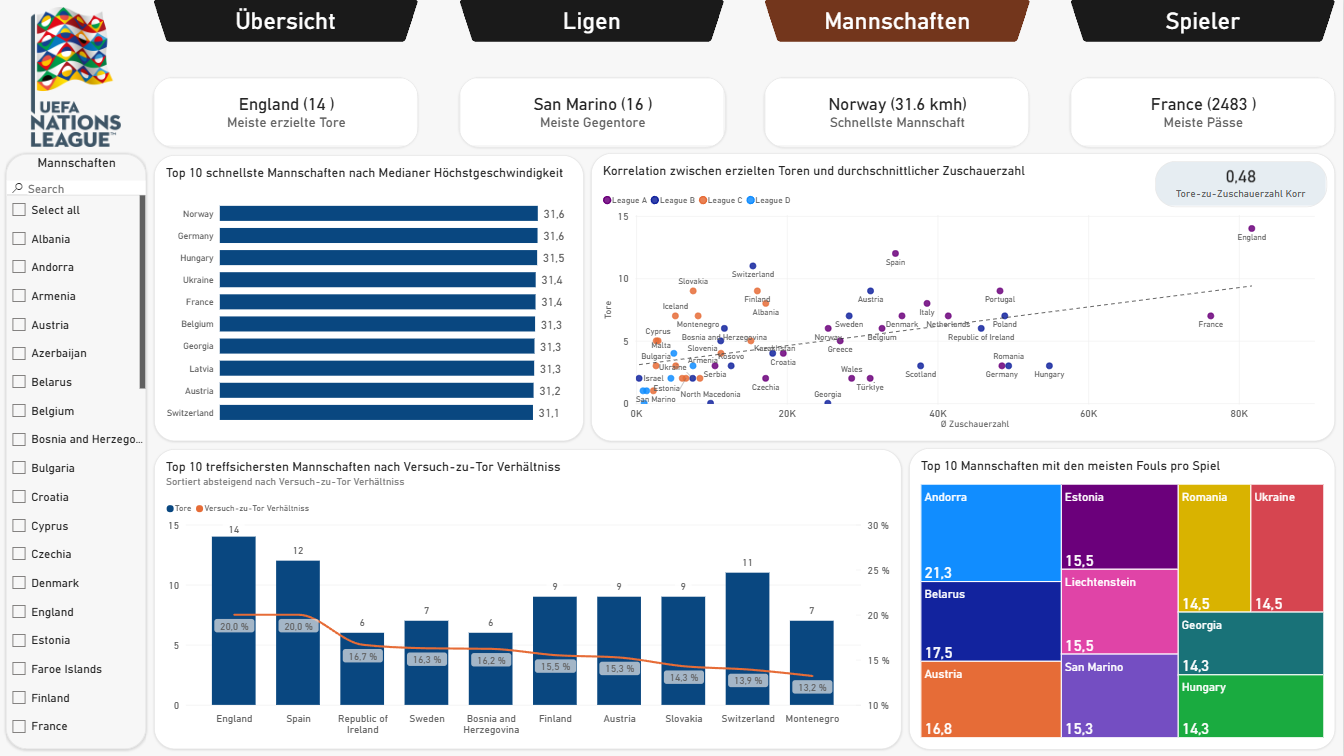

The dashboard page shown, as its layout file describes it:
{"tool":"powerbi","page":{"name":"Mannschaften","canvas":[1920,1080],"ordinal":2},"visuals":[{"type":"image","box":[10,10,200,200],"z":0},{"type":"cardVisual","fields":{"Data":["calculations.teams_most_goals"]},"box":[220.3,109.4,379.3,100.7],"z":1000},{"type":"cardVisual","fields":{"Data":["calculations.teams_most_goals_conceded"]},"box":[656.5,109.4,380.8,100.7],"z":2000},{"type":"cardVisual","fields":{"Data":["calculations.teams_most_passes"]},"box":[1530.5,109.4,379.3,100.7],"z":4000},{"type":"slicer","title":"Mannschaften","fields":{"Values":["dim_teams.team_name"]},"box":[10,220,200,850],"z":5000},{"type":"actionButton","box":[220,0,379.3,59.8],"z":6000},{"type":"actionButton","box":[1093.3,0,380.8,59.8],"z":7000},{"type":"actionButton","box":[1530,0,379.3,59.8],"z":8000},{"type":"actionButton","box":[656.7,0,379.3,59.8],"z":9000},{"type":"clusteredBarChart","title":"Top 10 schnellste Mannschaften nach Medianer Höchstgeschwindigkeit","fields":{"Category":["dim_teams.team_name"],"Y":["calculations.median_top_speed"]},"box":[220.8,220.8,614,408.7],"z":10000},{"type":"lineClusteredColumnComboChart","title":"Top 10 treffsichersten Mannschaften nach Versuch-zu-Tor Verhältniss","fields":{"Y":["calculations.goals_scored"],"Y2":["calculations.attempt_to_goal"],"Category":["dim_teams.team_name"]},"box":[221.4,641,1068.4,428.9],"z":11000},{"type":"treemap","title":"Top 10 Mannschaften mit den meisten Fouls pro Spiel","fields":{"Group":["dim_teams.team_name"],"Values":["calculations.avg_fouls_per_game"]},"box":[1299.8,640.5,609.2,430.7],"z":12000},{"type":"group","id":"g1","title":"Group 1","box":[845.7,219.2,1063.4,411.9],"z":13000},{"type":"scatterChart","title":"Korrelation zwischen erzielten Toren und durchschnittlicher Zuschauerzahl","fields":{"Category":["dim_teams.team_name"],"X":["calculations.avg_match_attendance"],"Y":["calculations.goals_scored"],"Series":["dim_teams.league_name"]},"box":[845.7,219.2,1063.4,411.9],"z":13000,"group":"g1"},{"type":"cardVisual","fields":{"Data":["calculations.teams_fastest_team"]},"box":[1092.9,110,379.3,100.7],"z":14000},{"type":"cardVisual","fields":{"Data":["calculations.goals_to_attendance_corr"]},"box":[1652,230,245.8,65.9],"z":14000,"group":"g1"}]}

Visuals, with their boxes on the page's 1920x1080 design canvas (x1, y1, x2, y2). These are canvas units, not pixel positions in the 1344x756 screenshot, which may show the page scaled, cropped or inside an application window:
image: (10, 10, 210, 210)
cardVisual - calculations.teams_most_goals: (220, 109, 600, 210)
cardVisual - calculations.teams_most_goals_conceded: (656, 109, 1037, 210)
cardVisual - calculations.teams_most_passes: (1530, 109, 1910, 210)
"Mannschaften" slicer: (10, 220, 210, 1070)
actionButton: (220, 0, 599, 60)
actionButton: (1093, 0, 1474, 60)
actionButton: (1530, 0, 1909, 60)
actionButton: (657, 0, 1036, 60)
"Top 10 schnellste Mannschaften nach Medianer Höchstgeschwindigkeit" clusteredBarChart: (221, 221, 835, 630)
"Top 10 treffsichersten Mannschaften nach Versuch-zu-Tor Verhältniss" lineClusteredColumnComboChart: (221, 641, 1290, 1070)
"Top 10 Mannschaften mit den meisten Fouls pro Spiel" treemap: (1300, 640, 1909, 1071)
"Group 1" group: (846, 219, 1909, 631)
"Korrelation zwischen erzielten Toren und durchschnittlicher Zuschauerzahl" scatterChart: (846, 219, 1909, 631)
cardVisual - calculations.teams_fastest_team: (1093, 110, 1472, 211)
cardVisual - calculations.goals_to_attendance_corr: (1652, 230, 1898, 296)
